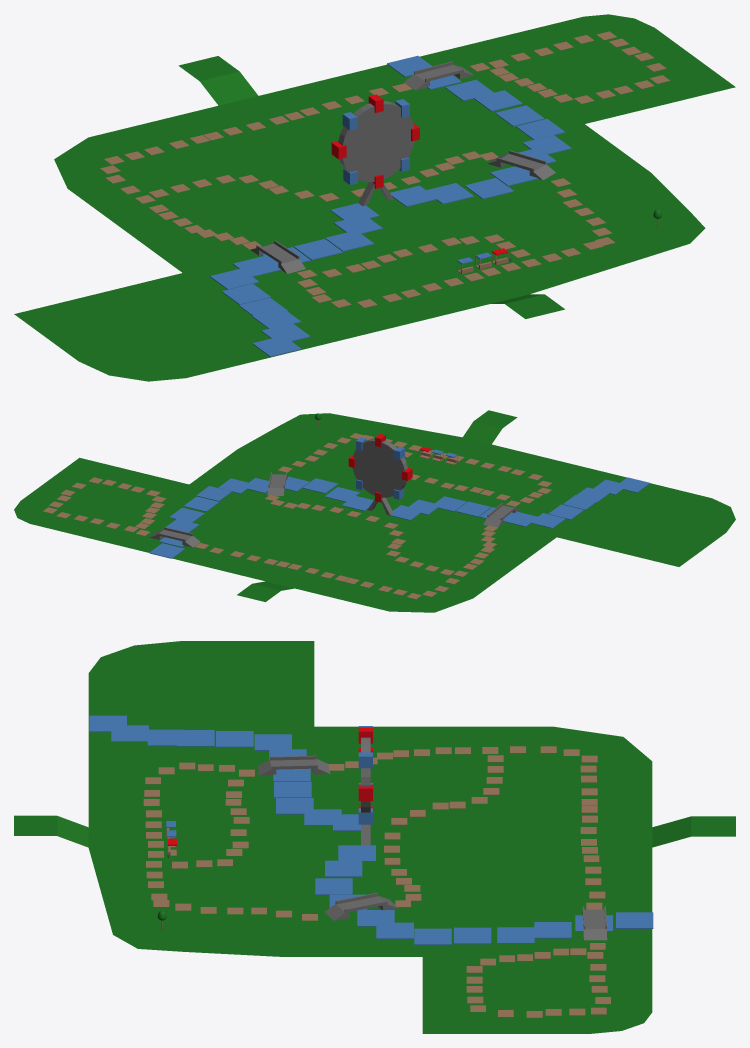
File: Blockoutmap_versie1.fbx
3 views of the same model, one above another, from view 1: azimuth 30°, elevation 25°; view 2: azimuth 150°, elevation 25°; view 3: azimuth 270°, elevation 25° (orthographic). The views are drawn at different scales.
Visible parts, largest first — view 1: Base.001, water, pad, Reuzenrad.001, Brug1.003, Brug1.002, Brug2.001; view 2: Base.001, water, pad, Reuzenrad.001, Brug1.003, Brug2.001, Brug1.002; view 3: Base.001, water, pad, Reuzenrad.001, Brug2.001, Brug1.002, Brug1.003.
Part boxes in pixels (bbox=[...]): Base.001: bbox=[14, 14, 735, 381]; water: bbox=[210, 55, 571, 356]; pad: bbox=[100, 31, 670, 307]; Reuzenrad.001: bbox=[331, 94, 419, 206]; Brug1.003: bbox=[404, 61, 473, 90]; Brug1.002: bbox=[487, 150, 555, 180]; Brug2.001: bbox=[250, 240, 305, 273]; Base.001: bbox=[14, 410, 735, 612]; water: bbox=[149, 476, 649, 558]; pad: bbox=[43, 433, 551, 599]; Reuzenrad.001: bbox=[348, 434, 412, 515]; Brug1.003: bbox=[149, 527, 200, 547]; Brug2.001: bbox=[483, 503, 519, 527]; Brug1.002: bbox=[267, 472, 287, 495]; Base.001: bbox=[14, 641, 735, 1033]; water: bbox=[89, 715, 653, 945]; pad: bbox=[143, 746, 610, 1017]; Reuzenrad.001: bbox=[358, 726, 372, 845]; Brug2.001: bbox=[257, 755, 330, 775]; Brug1.002: bbox=[324, 892, 398, 920]; Brug1.003: bbox=[582, 906, 607, 940].
Bounding box in the file's own units: 38132 × 4887 × 29631.
